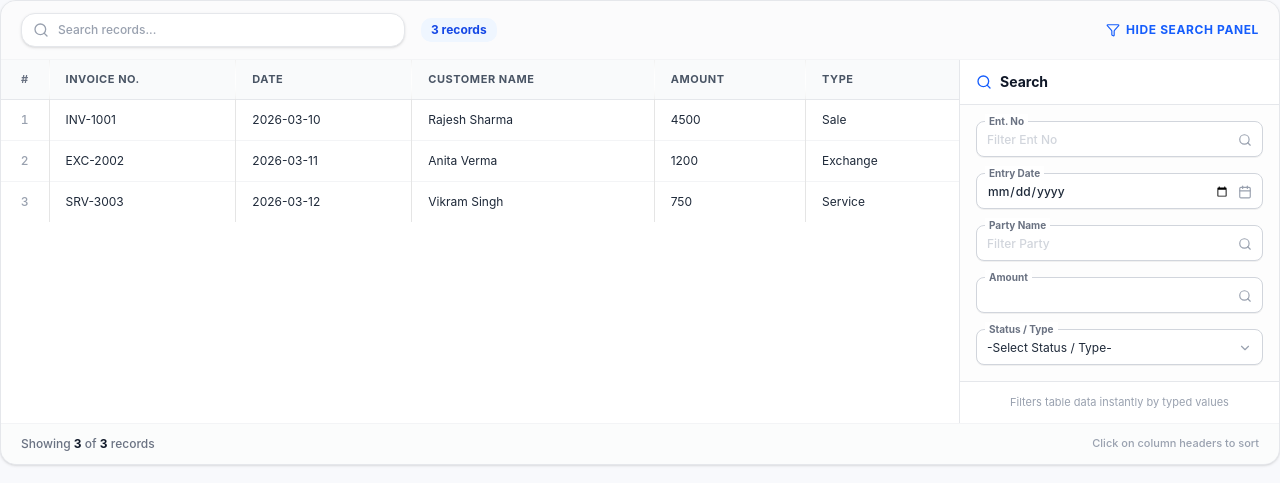
Test: ReportTable with Search Panel (Reference Layout) › filters table data when entering values into typed search panel fields
# Search by Ent. No using placeholder
Type "INV-1001" into the field with placeholder "Filter Ent No" at (1112, 140), box [987,130,1238,150]
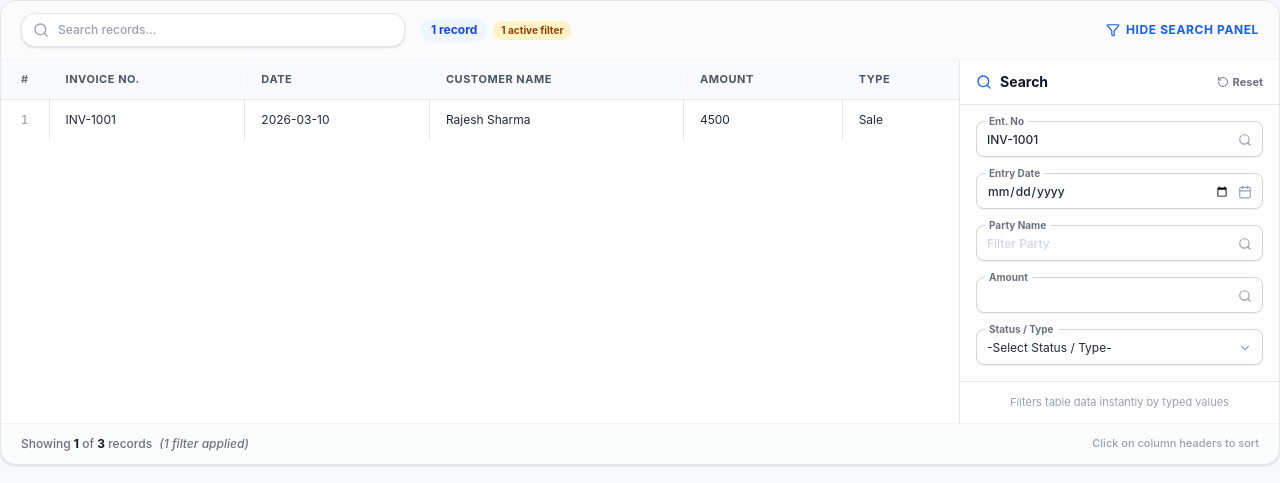
Expected: the text "Rajesh Sharma" is shown, [429,99,683,140]
Now the text "Anita Verma" is gone
Now the text "Vikram Singh" is gone
